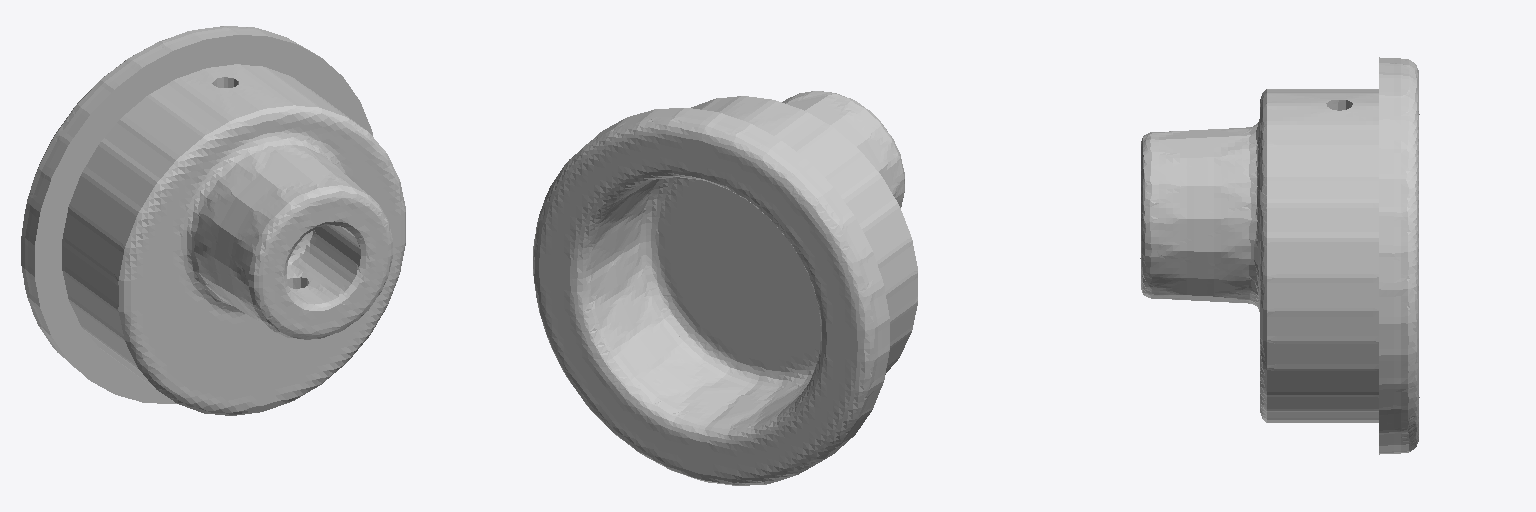
The model's file is mono2.obj.
3 views of the same model, side by side, from view 1: azimuth 30°, elevation 25°; view 2: azimuth 150°, elevation 25°; view 3: azimuth 270°, elevation 25° (orthographic).
Parts seen in each view (by area): view 1: Part__Feature001; view 2: Part__Feature001; view 3: Part__Feature001.
Part boxes in pixels (bbox=[...]): Part__Feature001: bbox=[21, 26, 405, 415]; Part__Feature001: bbox=[533, 91, 917, 485]; Part__Feature001: bbox=[1140, 57, 1419, 454].
Size of the model in its own units: 0.9961 by 1 by 0.7016.